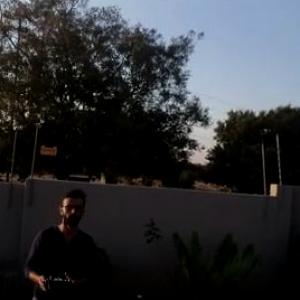follow: (19, 185, 101, 299)
